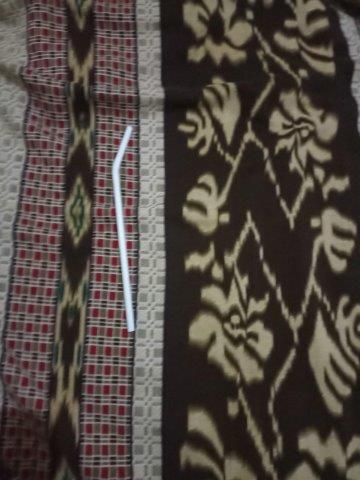sedotan: (112, 126, 136, 332)
